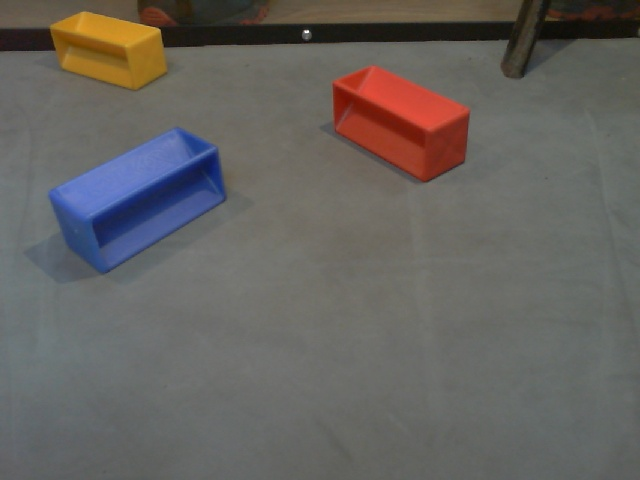BlueSample: (46, 128, 229, 274)
RedSample: (330, 62, 474, 184)
YellowSample: (48, 9, 171, 93)
